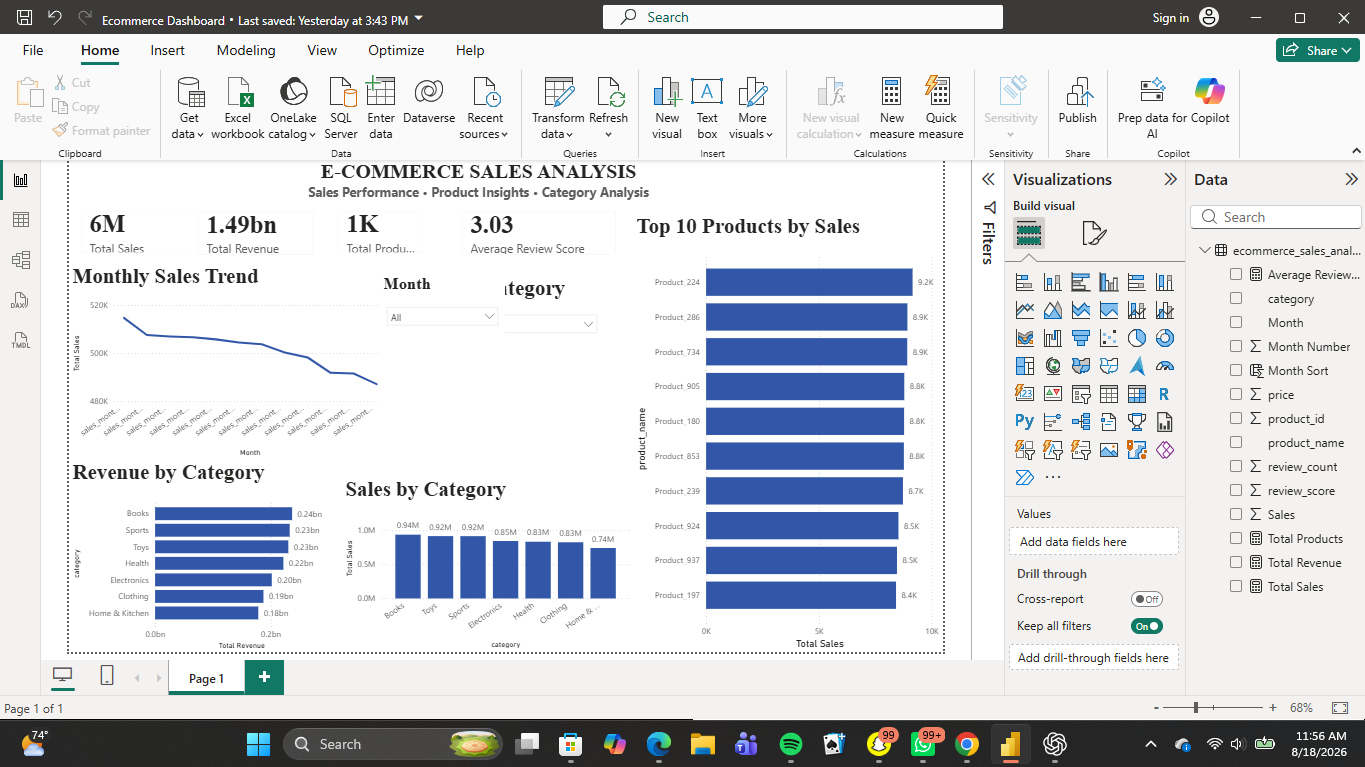

The dashboard page shown, as its layout file describes it:
{"tool":"powerbi","page":{"name":"Page 1","canvas":[1280,720],"ordinal":0},"visuals":[{"type":"textbox","title":"E-COMMERCE SALES ANALYSIS","box":[274.3,0,651.4,80],"z":0},{"type":"lineChart","title":"Monthly Sales Trend","fields":{"Category":["ecommerce_sales_analysis.Month"],"Y":["ecommerce_sales_analysis.Total Sales"]},"box":[0,154.3,468.6,285.7],"z":1000},{"type":"clusteredColumnChart","title":"Sales by Category","fields":{"Category":["ecommerce_sales_analysis.category"],"Y":["ecommerce_sales_analysis.Total Sales"]},"box":[399.5,465.4,425.7,254.3],"z":2000},{"type":"clusteredBarChart","title":"Top 10 Products by Sales","fields":{"Category":["ecommerce_sales_analysis.product_name"],"Y":["ecommerce_sales_analysis.Total Sales"]},"box":[825.4,80.5,455.1,639.5],"z":3000},{"type":"clusteredBarChart","title":"Revenue by Category","fields":{"Category":["ecommerce_sales_analysis.category"],"Y":["ecommerce_sales_analysis.Total Revenue"]},"box":[0,440.5,400,280],"z":4000},{"type":"cardVisual","fields":{"Data":["ecommerce_sales_analysis.Total Sales"]},"box":[0,58.6,190,95.7],"z":5000},{"type":"cardVisual","fields":{"Data":["ecommerce_sales_analysis.Total Revenue"]},"box":[171.4,58.6,204.3,97.1],"z":6000},{"type":"cardVisual","fields":{"Data":["ecommerce_sales_analysis.Total Products"]},"box":[375.7,58.6,158.6,95.7],"z":7000},{"type":"cardVisual","fields":{"Data":["ecommerce_sales_analysis.Average Review Score"]},"box":[557.1,58.6,260,97.1],"z":8000},{"type":"slicer","title":"Category","fields":{"Values":["ecommerce_sales_analysis.category"]},"box":[635.1,162.4,182.9,267.1],"z":9000},{"type":"slicer","title":"Month","fields":{"Values":["ecommerce_sales_analysis.Month"]},"box":[455.1,168.3,183,256],"z":10000}]}

Visuals, with their boxes on the page's 1280x720 design canvas (x1, y1, x2, y2). These are canvas units, not pixel positions in the 1365x767 screenshot, which may show the page scaled, cropped or inside an application window:
"E-COMMERCE SALES ANALYSIS" textbox: {"left": 274, "top": 0, "right": 926, "bottom": 80}
"Monthly Sales Trend" lineChart: {"left": 0, "top": 154, "right": 469, "bottom": 440}
"Sales by Category" clusteredColumnChart: {"left": 400, "top": 465, "right": 825, "bottom": 720}
"Top 10 Products by Sales" clusteredBarChart: {"left": 825, "top": 80, "right": 1280, "bottom": 720}
"Revenue by Category" clusteredBarChart: {"left": 0, "top": 440, "right": 400, "bottom": 720}
cardVisual - ecommerce_sales_analysis.Total Sales: {"left": 0, "top": 59, "right": 190, "bottom": 154}
cardVisual - ecommerce_sales_analysis.Total Revenue: {"left": 171, "top": 59, "right": 376, "bottom": 156}
cardVisual - ecommerce_sales_analysis.Total Products: {"left": 376, "top": 59, "right": 534, "bottom": 154}
cardVisual - ecommerce_sales_analysis.Average Review Score: {"left": 557, "top": 59, "right": 817, "bottom": 156}
"Category" slicer: {"left": 635, "top": 162, "right": 818, "bottom": 430}
"Month" slicer: {"left": 455, "top": 168, "right": 638, "bottom": 424}
